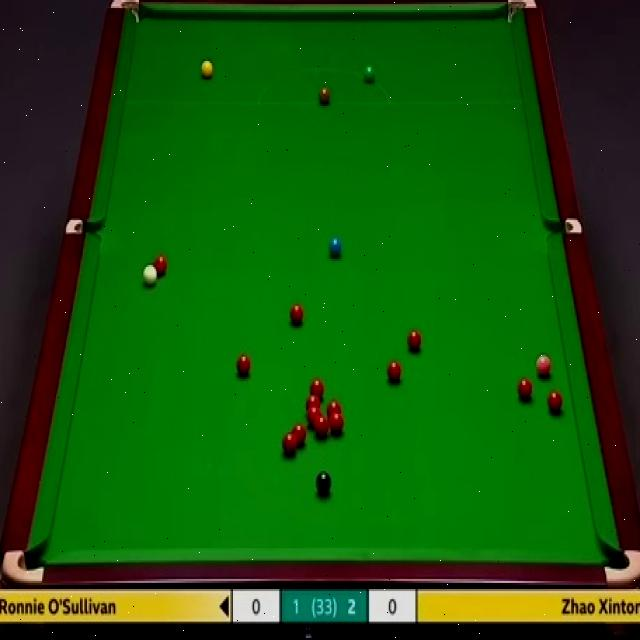black-ball: (315, 469, 332, 499)
blue-ball: (328, 235, 343, 257)
brown-ball: (318, 85, 331, 106)
green-ball: (362, 65, 376, 84)
pink-ball: (536, 352, 552, 378)
red-ball: (235, 352, 252, 380), (281, 433, 298, 458), (292, 425, 309, 450), (518, 377, 535, 402), (547, 391, 565, 414), (328, 412, 344, 437), (386, 360, 401, 385), (289, 304, 305, 326), (408, 328, 422, 353), (152, 257, 166, 280), (315, 414, 328, 438), (308, 378, 325, 396), (307, 408, 321, 427), (306, 394, 320, 410), (327, 402, 341, 416)
white-ball: (142, 266, 158, 289)
yellow-ball: (201, 61, 215, 81)
